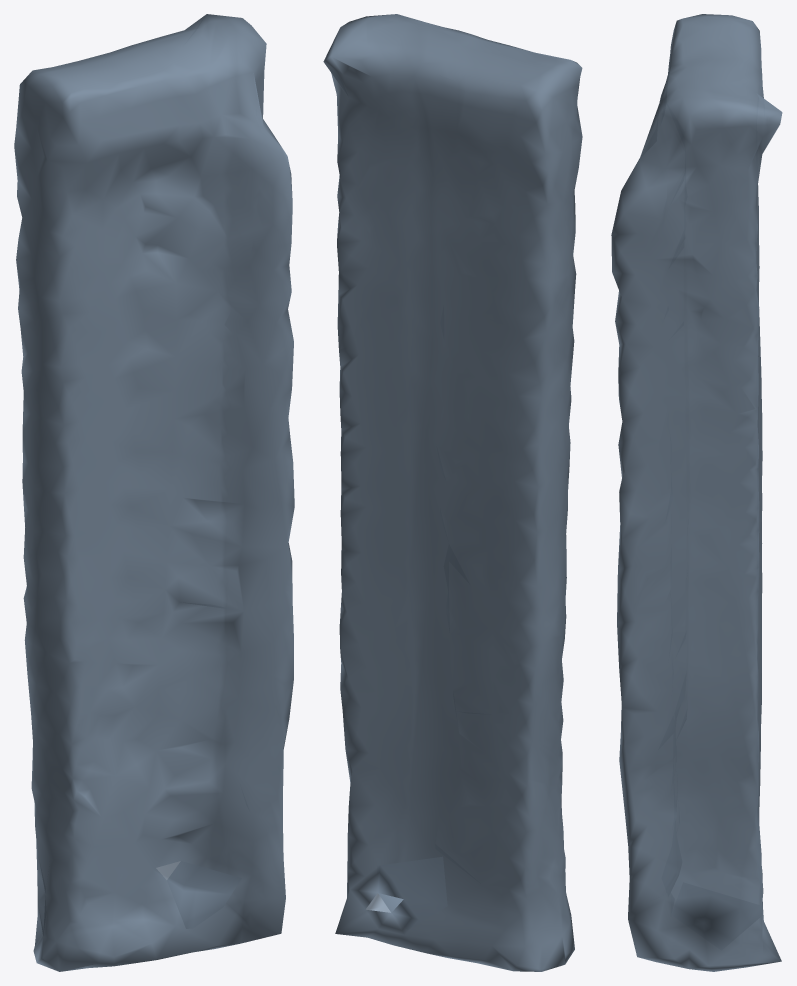
Rendered from sofa_0490_recon.obj.
The picture shows the model from 3 angles, left to right: view 1: azimuth 30°, elevation 25°; view 2: azimuth 150°, elevation 25°; view 3: azimuth 270°, elevation 25°; orthographic projection. The views are drawn at different scales.
Bounding box in the file's own units: 0.499 × 1.95 × 0.3457.
